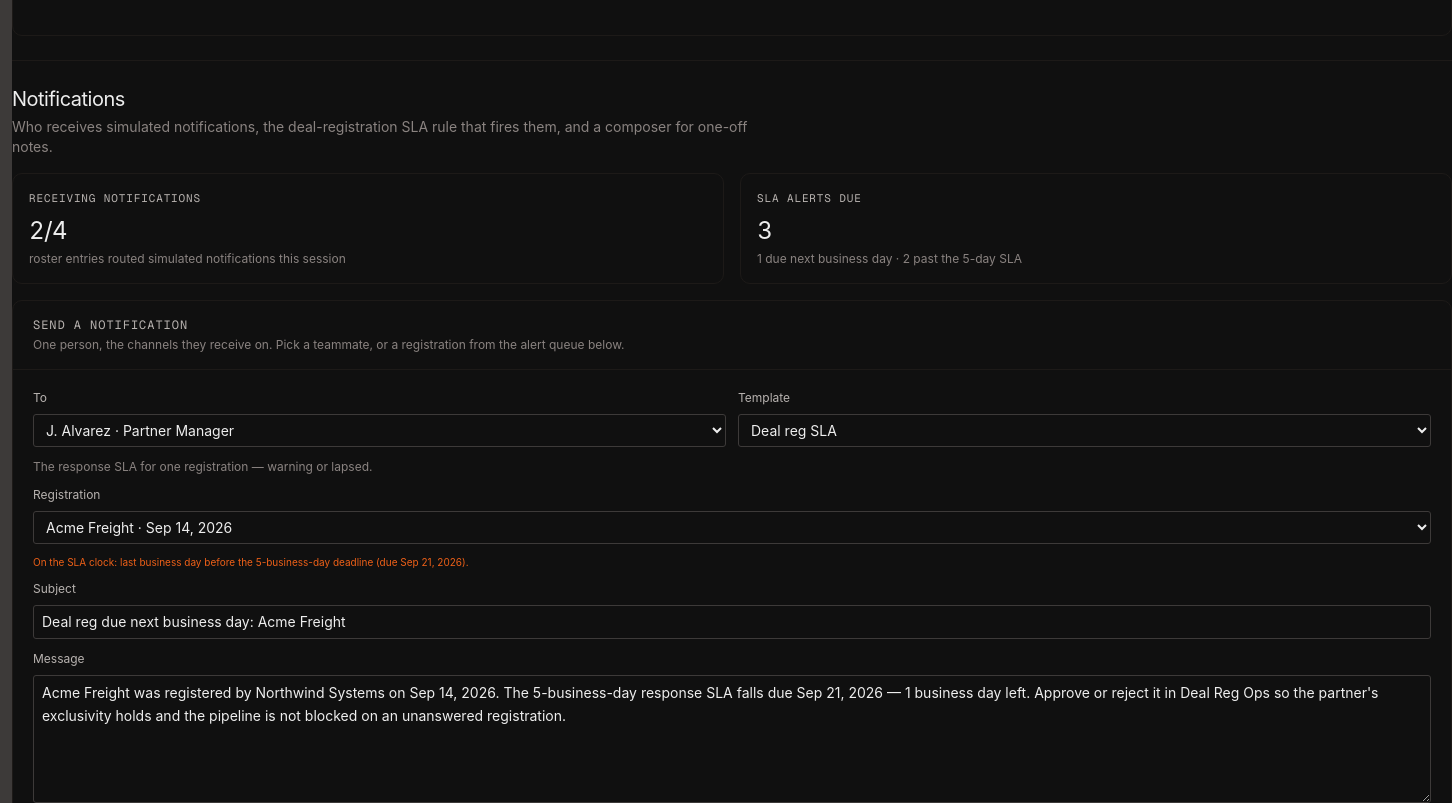
Test: SettingsView › recomposes the copy when the template or registration changes
The width and height of the screenshot is (1452, 803).
(page scrolled)
Check: the dropdown labelled "To" shows "J. Alvarez · Partner Manager", box [33, 414, 726, 446]
Select "Registration question" in the dropdown labelled "Template" at (1084, 430), box [738, 414, 1431, 446]
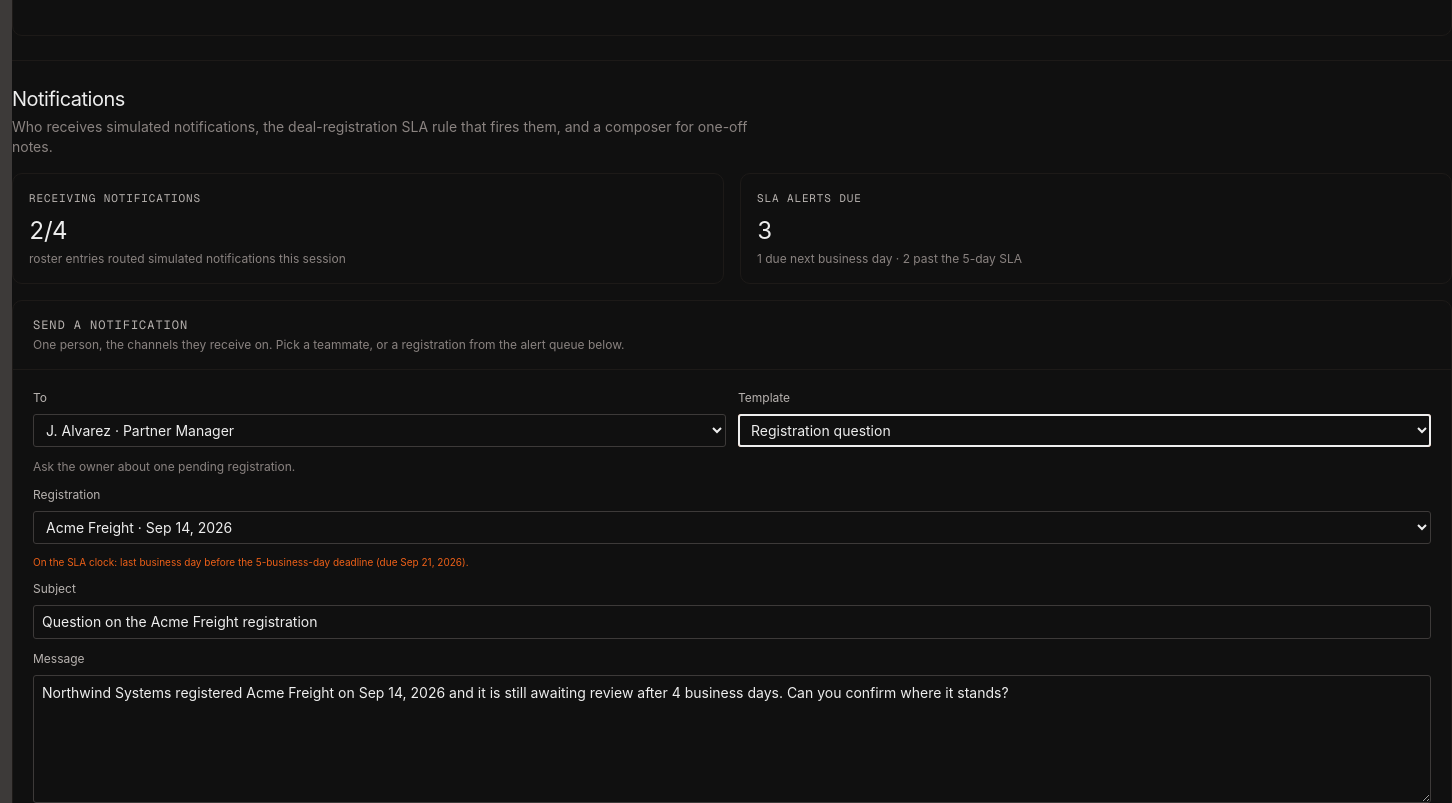
Check: the field labelled "Subject" holds "Question on the Acme Freight registration", box [33, 605, 1431, 639]
Select "Contoso Retail · Sep 9, 2026" in the dropdown labelled "Registration" at (732, 527), box [33, 510, 1431, 544]
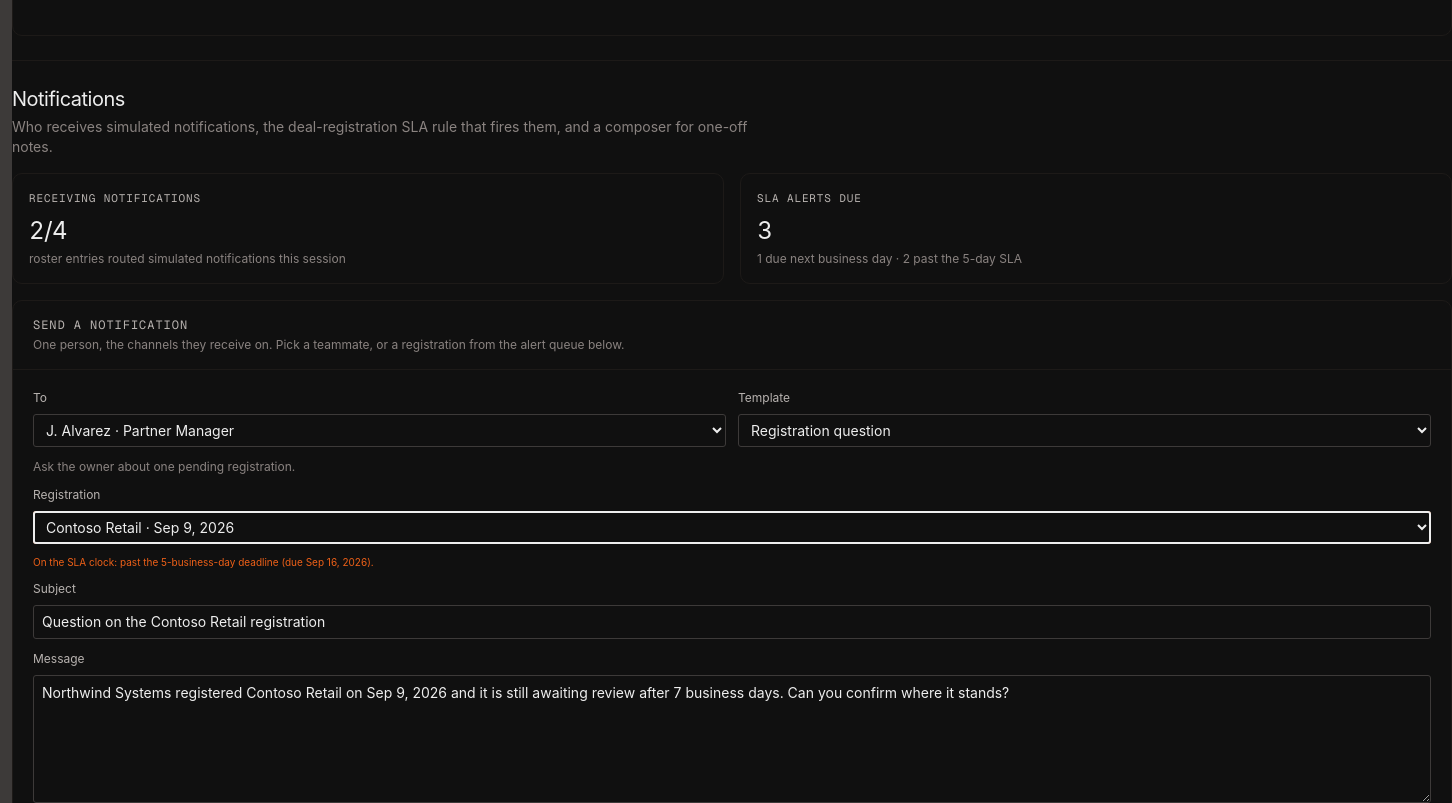
Check: the field labelled "Subject" holds "Question on the Contoso Retail registration", box [33, 605, 1431, 639]
A custom note has no template copy, and no registration to hang it on.
Select "Custom note" in the dropdown labelled "Template" at (1084, 430), box [738, 414, 1431, 446]
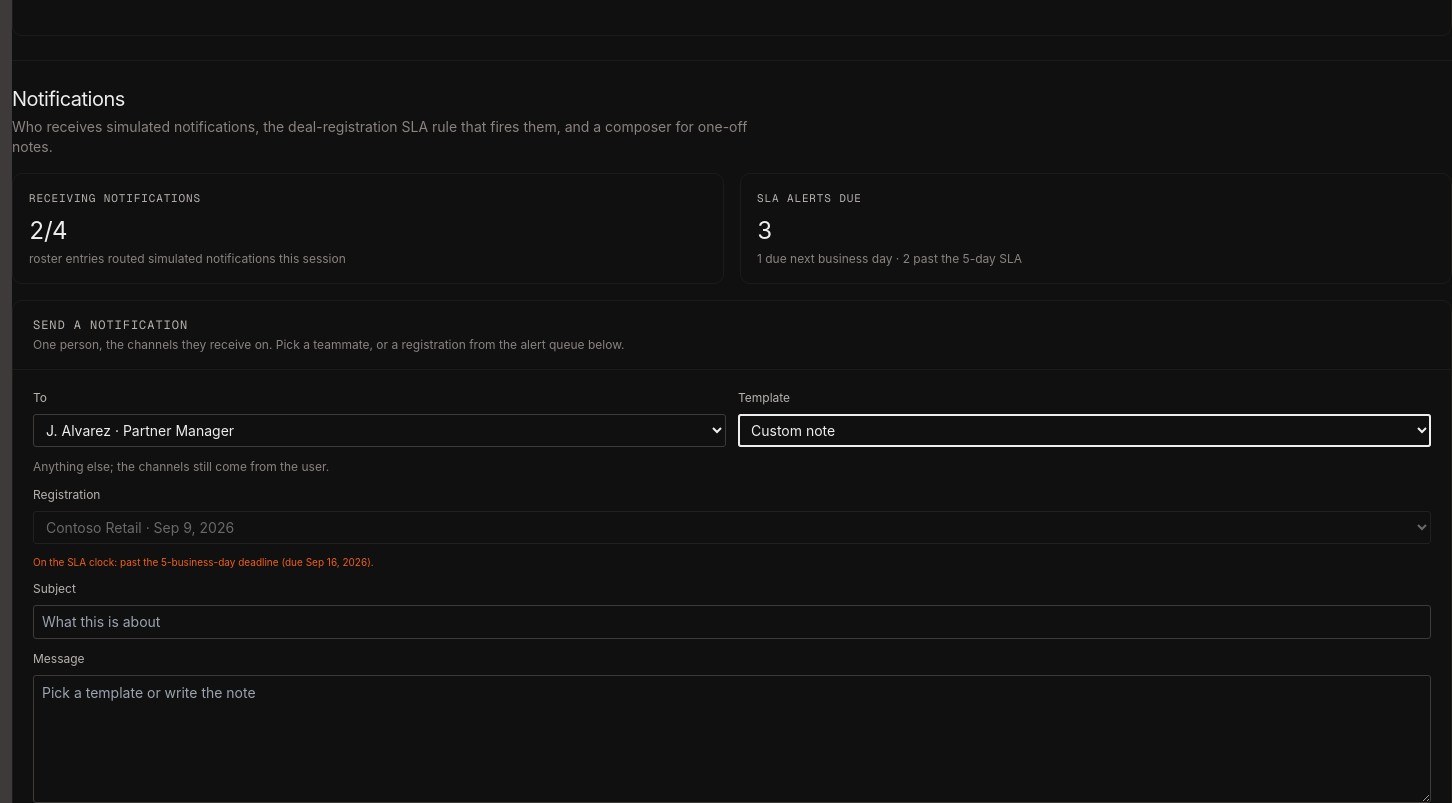
Check: the field labelled "Subject" is empty, box [33, 605, 1431, 639]
Check: the text box labelled "Message" is empty, box [33, 675, 1431, 802]
Check: the dropdown labelled "Registration" is disabled, box [33, 510, 1431, 544]
Back to the SLA template and the alert on that registration re-fills it.
Select "Deal reg SLA" in the dropdown labelled "Template" at (1084, 430), box [738, 414, 1431, 446]
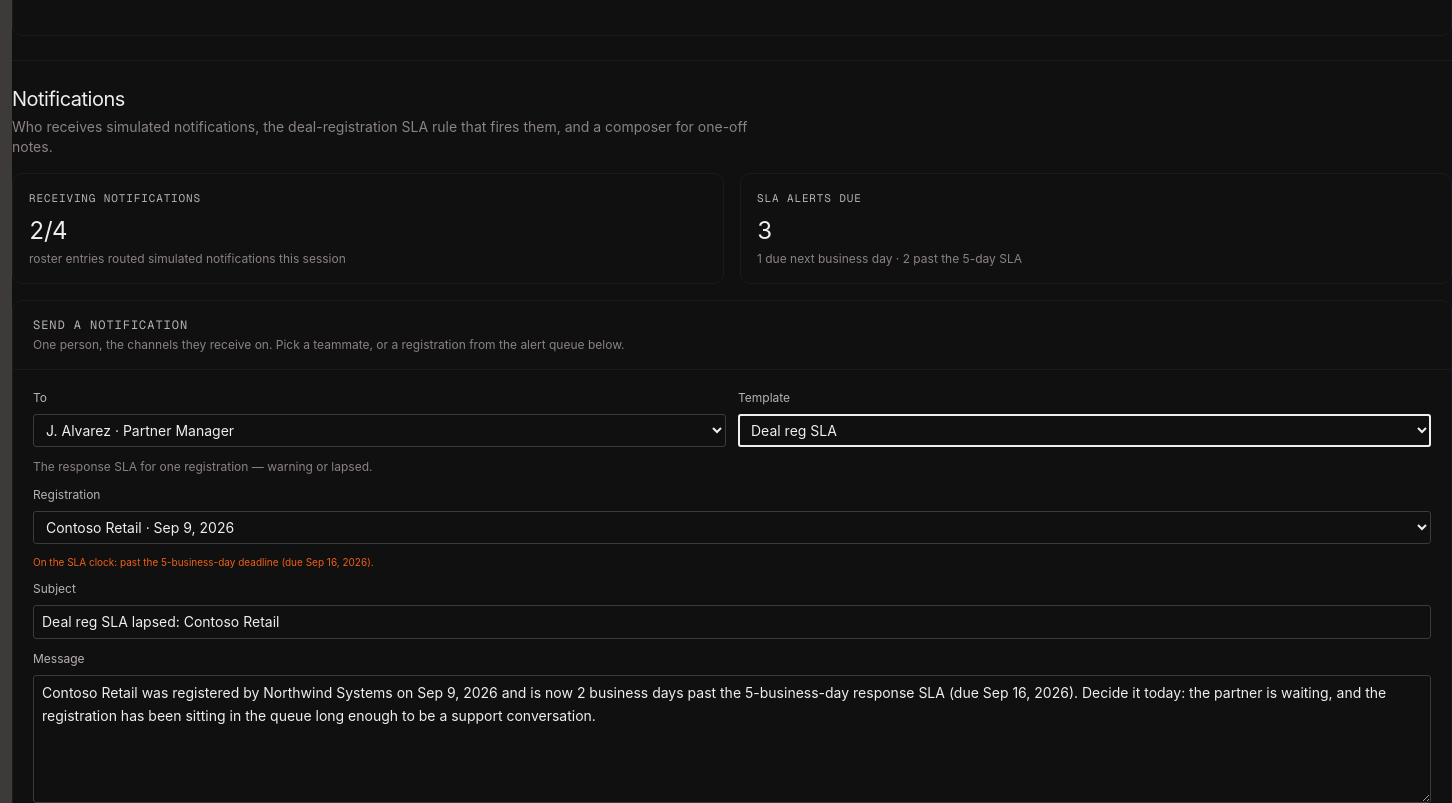
Check: the field labelled "Subject" holds "Deal reg SLA lapsed: Contoso Retail", box [33, 605, 1431, 639]
